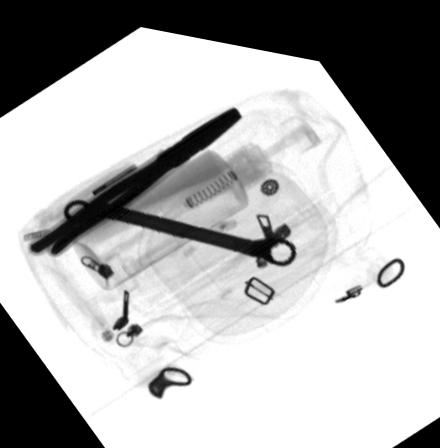Pliers: (23, 95, 240, 255)
Wrench: (58, 196, 299, 257)
